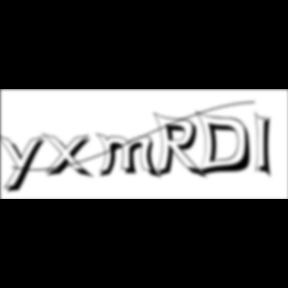D: (196, 110, 258, 180)
I: (255, 110, 279, 182)
R: (153, 112, 210, 182)
m: (96, 132, 164, 181)
x: (42, 132, 97, 181)
y: (0, 132, 50, 196)
